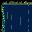Interaction: (0, 0, 32, 8), (0, 0, 5, 32)
Slow: (5, 4, 32, 32)
